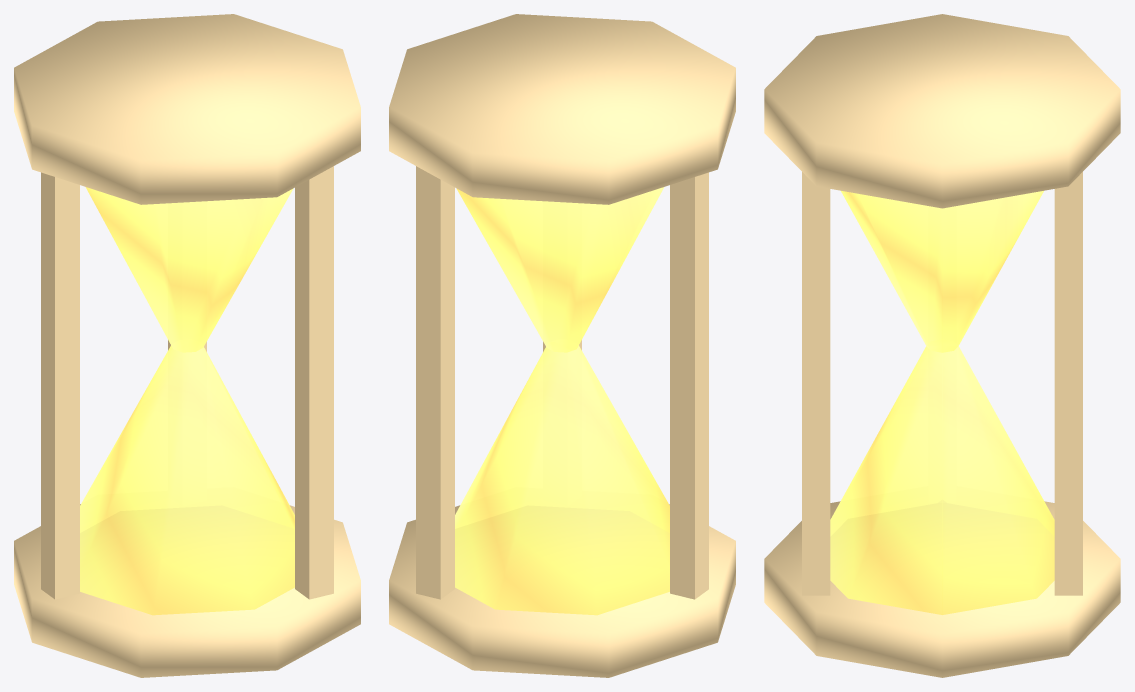
The model's file is cos_hourglass.glb.
3 renders of one model, left to right at view 1: azimuth 30°, elevation 25°; view 2: azimuth 150°, elevation 25°; view 3: azimuth 270°, elevation 25°, orthographic.
Visible parts, largest first — view 1: cos_hourglass_frame, cos_hourglass_sand; view 2: cos_hourglass_frame, cos_hourglass_sand; view 3: cos_hourglass_frame, cos_hourglass_sand.
Boxes of the visible parts, <box> form: cos_hourglass_frame: <box>14,14,360,677</box>; cos_hourglass_sand: <box>80,187,294,615</box>; cos_hourglass_frame: <box>389,14,735,677</box>; cos_hourglass_sand: <box>455,187,669,615</box>; cos_hourglass_frame: <box>764,14,1120,677</box>; cos_hourglass_sand: <box>830,191,1054,614</box>.
Bounding box in the file's own units: 0.44 × 0.7 × 0.44.
